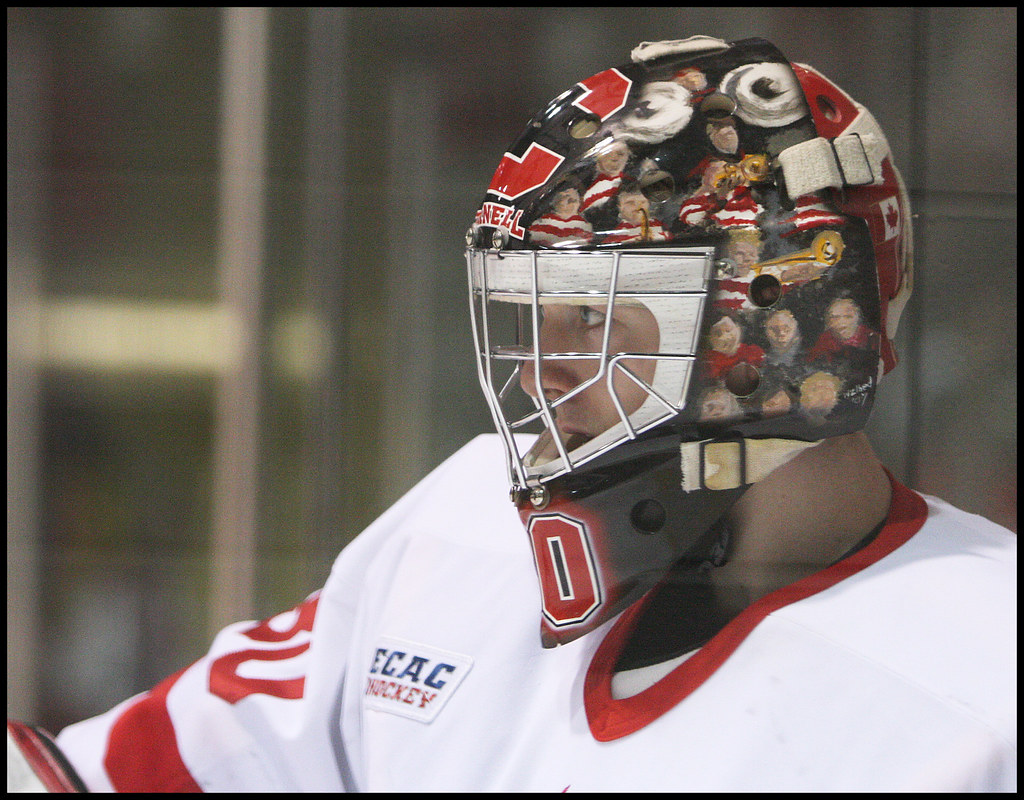helmet: (468, 48, 931, 477)
